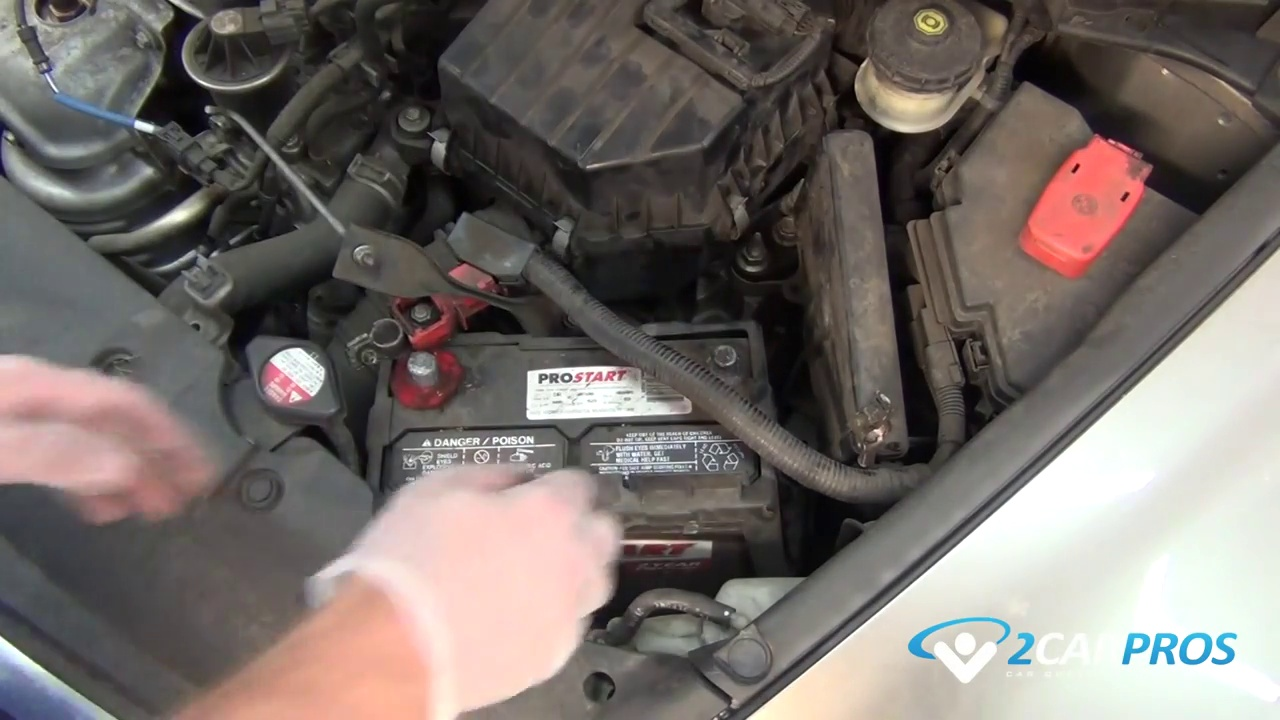battery: (368, 306, 770, 524)
neg_disconnected: (662, 309, 766, 389)
pos_disconnected: (356, 263, 462, 410)
